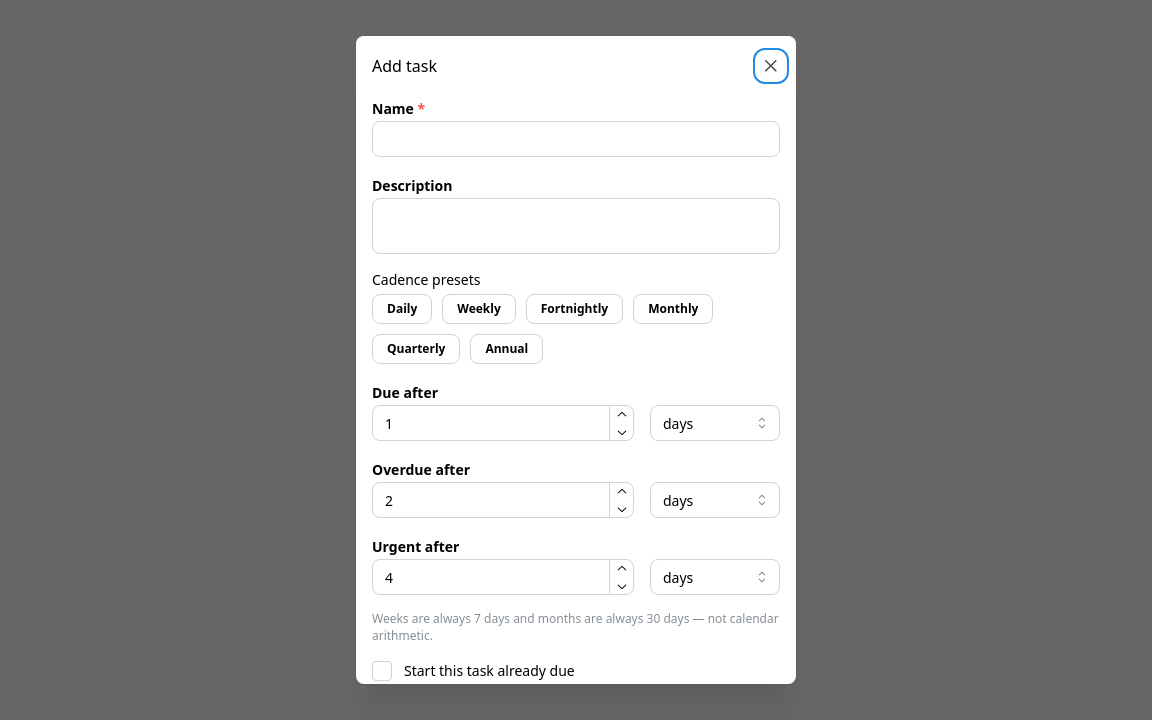
TaskFormModal auto-fill › fills overdue (2x) and urgent (4x) from due while both are untouched
Clear the field labelled "Due after": coordinates (503, 423) [372,405,634,441]
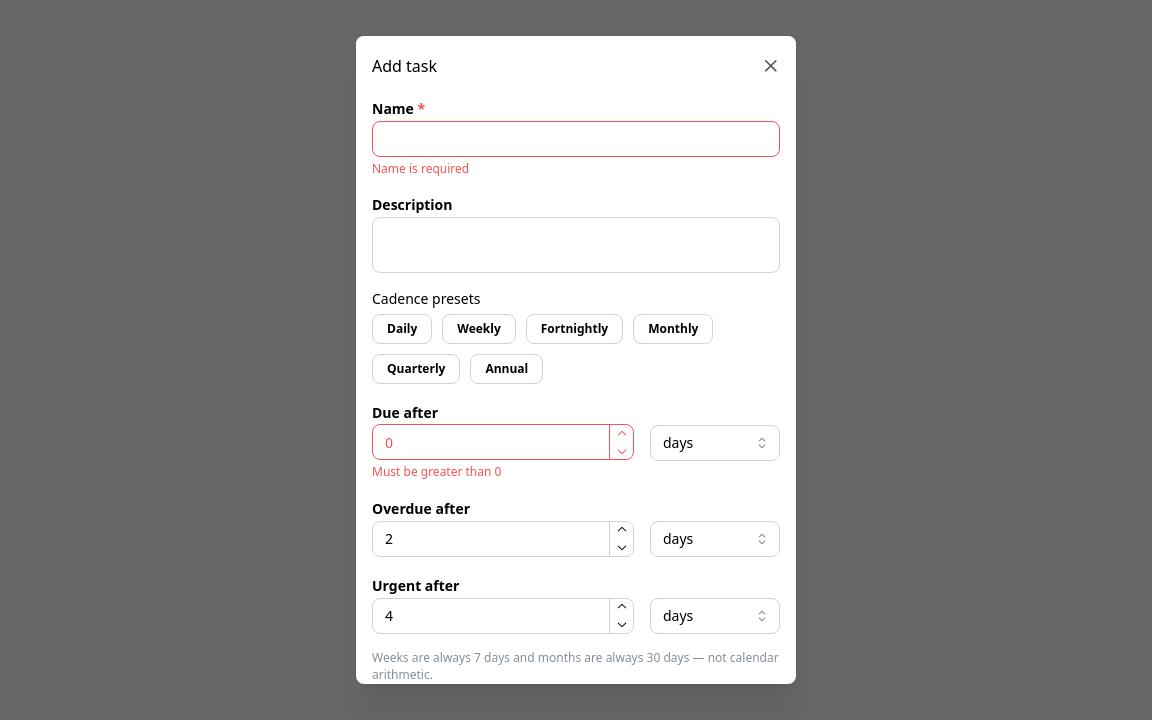
In the field labelled "Due after": coordinates (503, 442) [372,424,634,460], type "3"
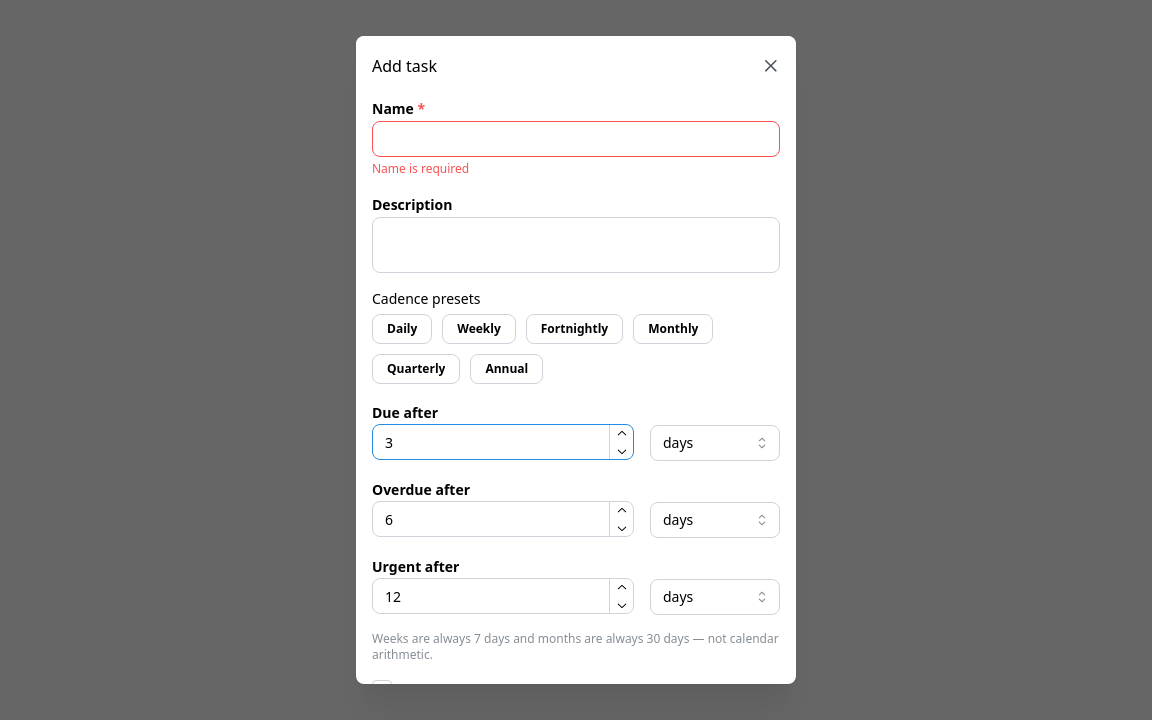
Result: the field labelled "Overdue after" holds "6" at [372,502,634,538]
Result: the field labelled "Urgent after" holds "12" at [372,578,634,614]
